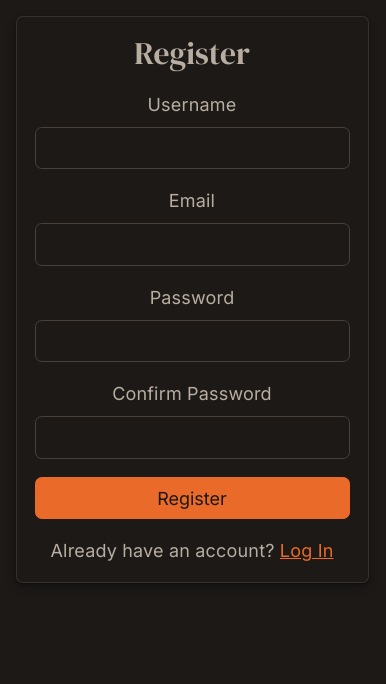
it: RegisterPage › shows an error message when registration fails
In the field labelled "Username": [192, 148] box [34,127,350,169], type "jdoe"
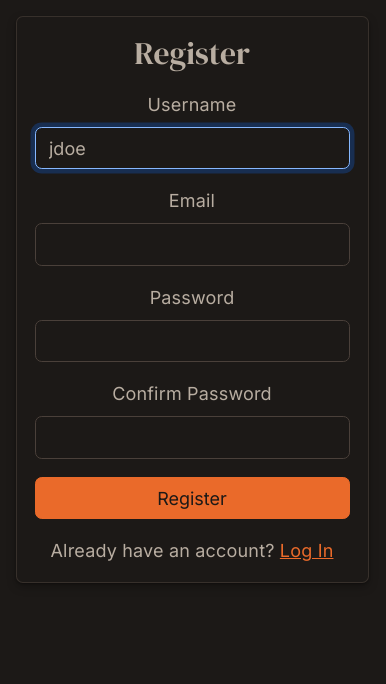
In the field labelled "Email": [192, 245] box [34,223,350,266], type "jdoe@example.com"
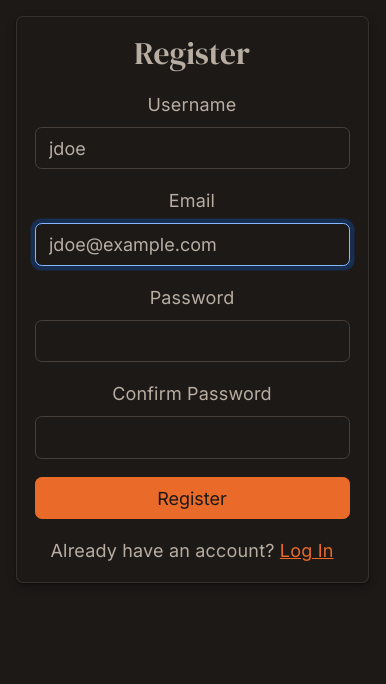
In the password field labelled "Password": [192, 341] box [34,320,350,362], type "hunter2"
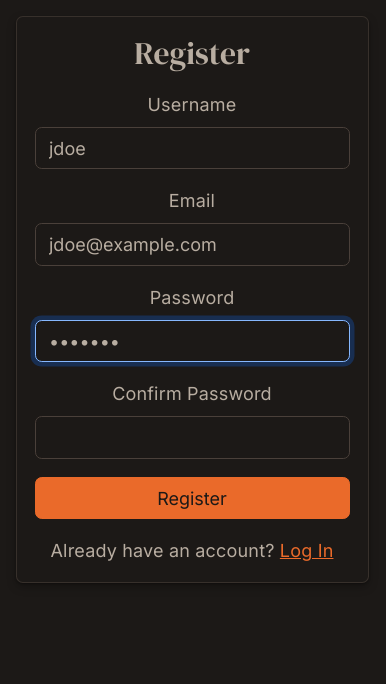
In the password field labelled "Confirm Password": [192, 438] box [34,416,350,459], type "hunter2"
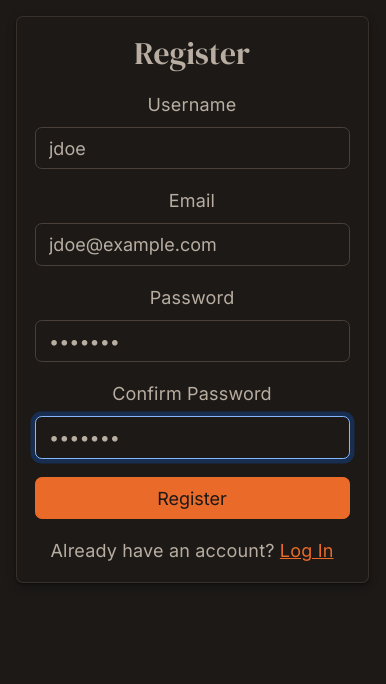
Click the button "Register": [192, 498] box [34,477,350,519]
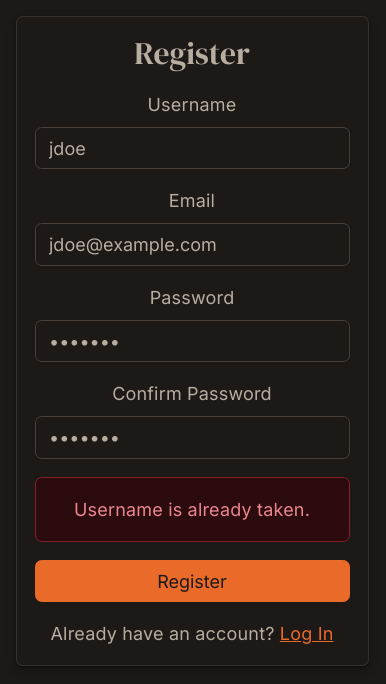
Expected: the message reads "Username is already taken.", [74,499,310,520]
